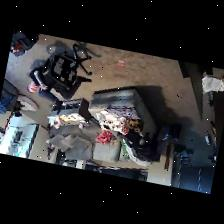person: (28, 67, 91, 111)
